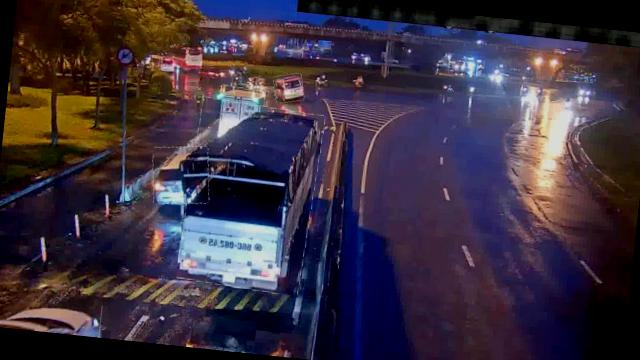Bus: (272, 72, 306, 104)
Car: (0, 294, 103, 338), (148, 143, 212, 208)
Truck: (178, 99, 324, 296), (211, 86, 264, 156)
